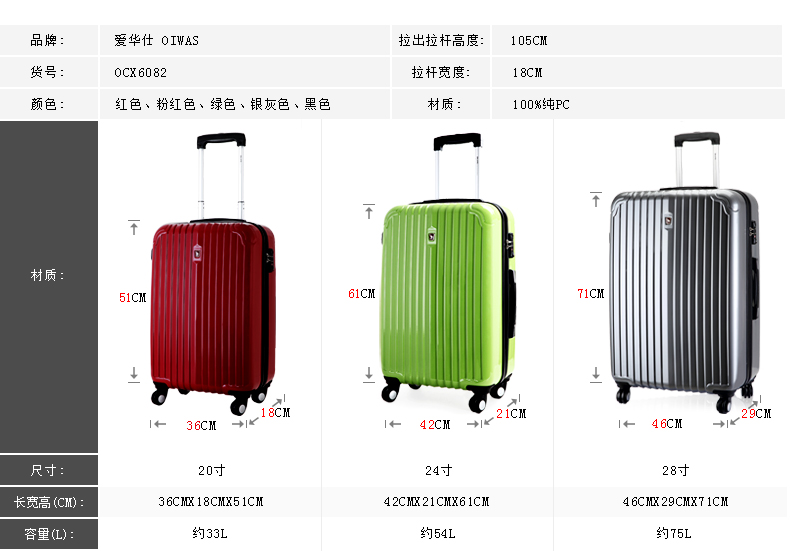luggage: (605, 128, 761, 416), (379, 127, 516, 415), (148, 130, 279, 418)
